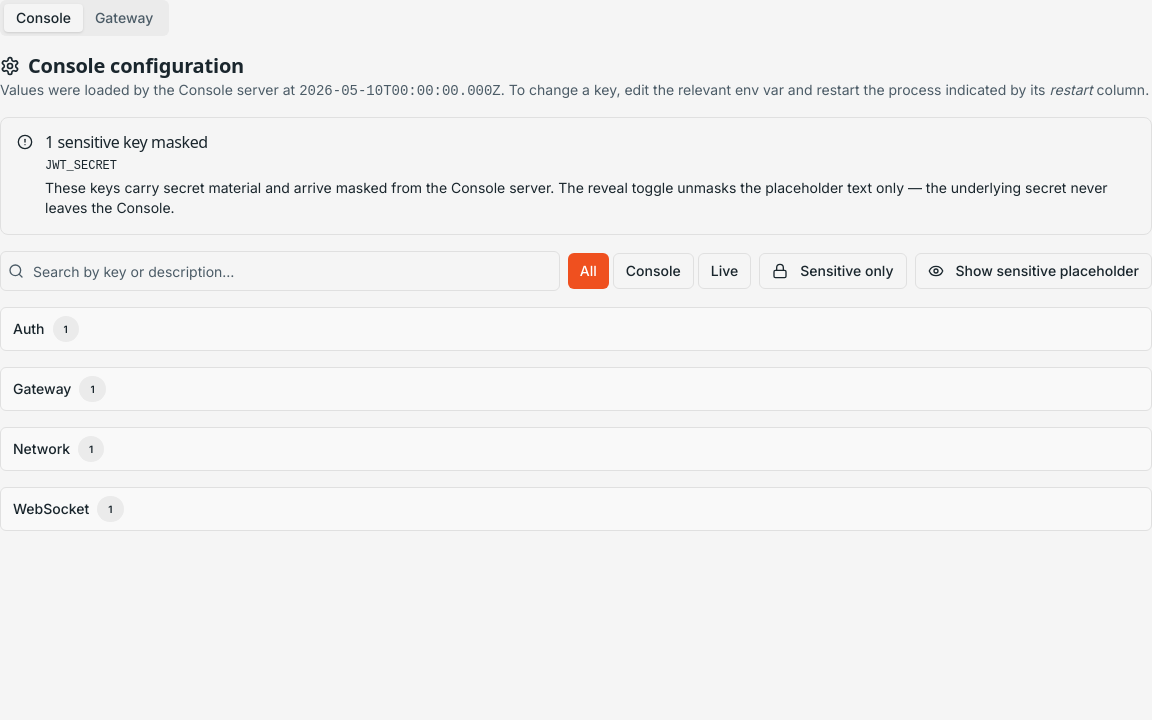
SystemConfigPage — category grouping › preserves canonical acronym casing in summaries
Step 1. Click the tab "Gateway" → (124, 18), box [83,4,165,32]
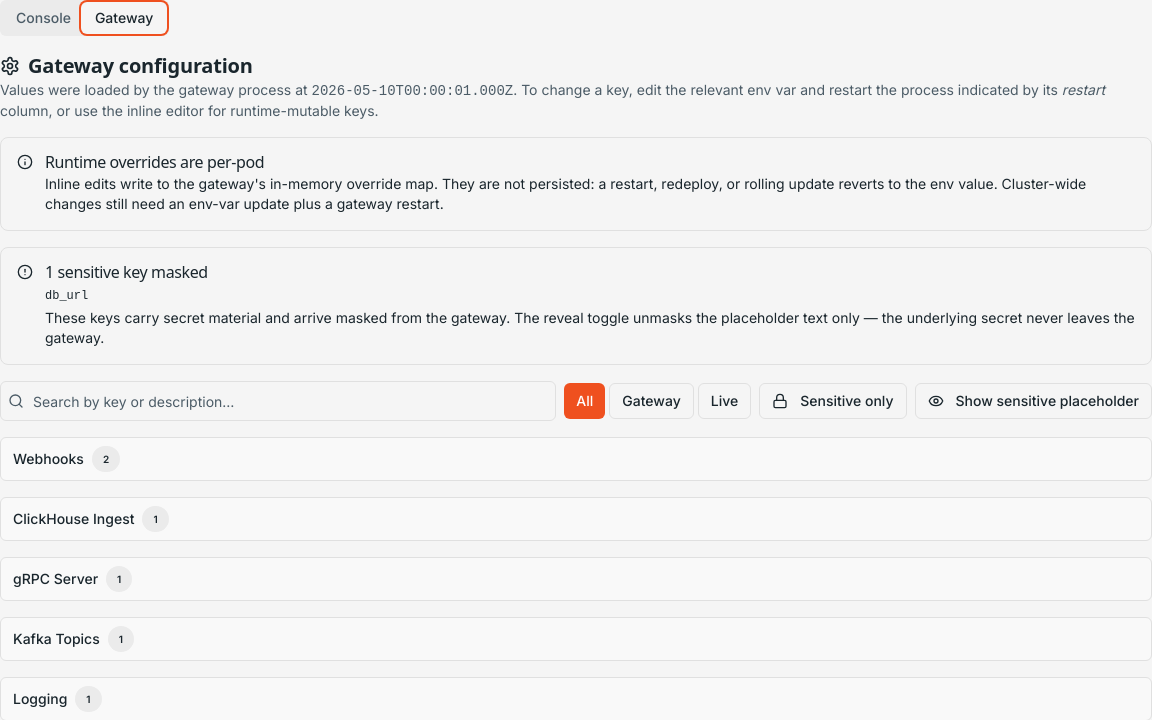
Check: the text "gRPC Server" is shown, box [13,569,98,589]
Check: the text "ClickHouse Ingest" is shown, box [13,509,134,529]
